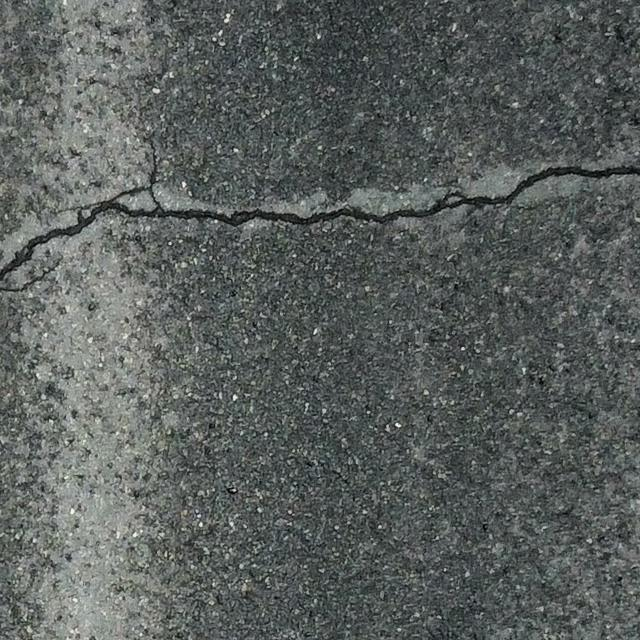TransverseCrack: (1, 163, 640, 281)
